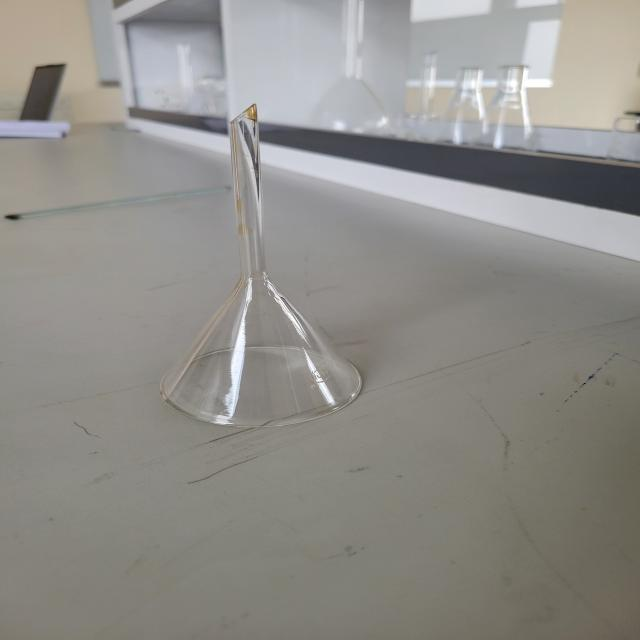Funnel: (140, 73, 392, 455)
